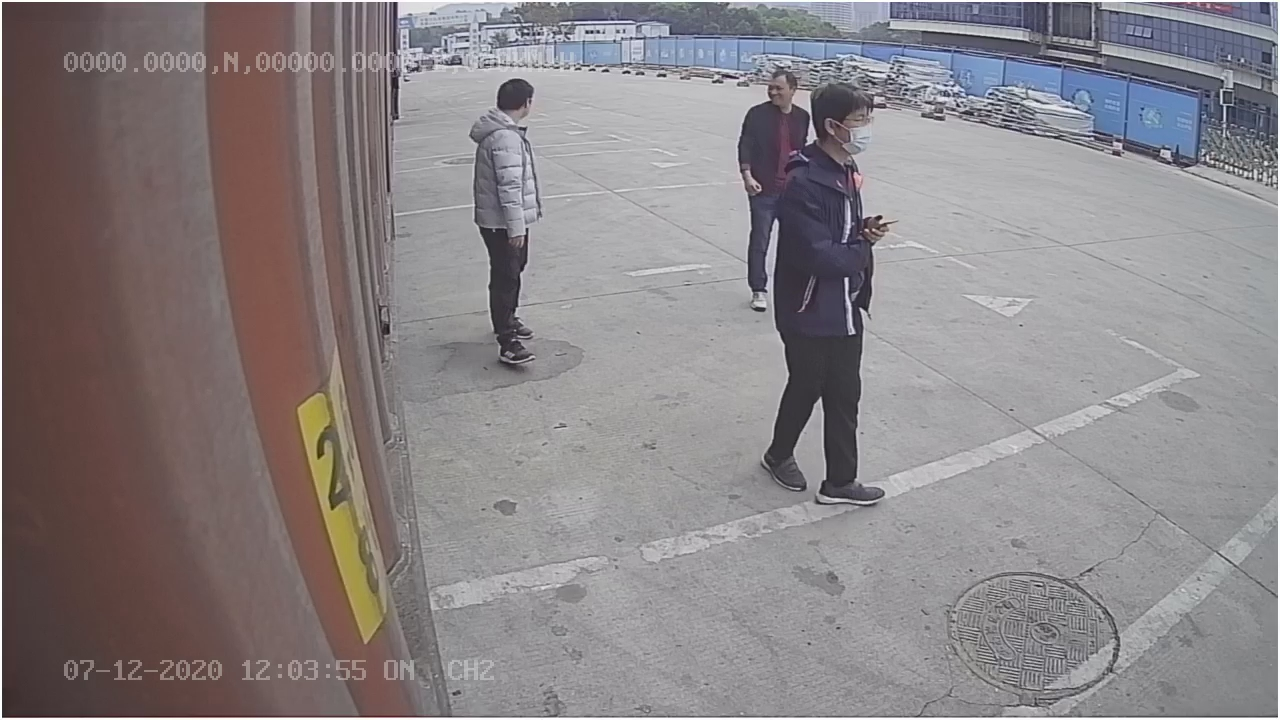person: (461, 79, 550, 366)
